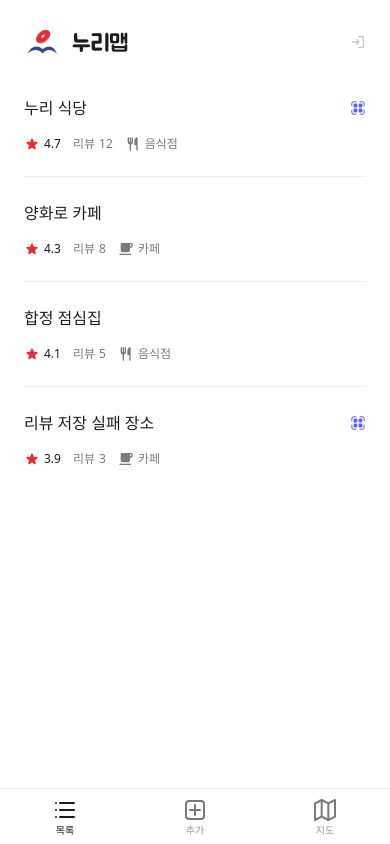
it: Nurimap browse › opens the refreshed mobile list-first root and full-screen detail flow
The image size is (390, 844).
Expected: the element with test id "mobile-list-page" shows "누리맵", [72,30,128,54]
Click the button with test id "place-list-item-place-restaurant-1" at (56,108), box [0,76,389,172]
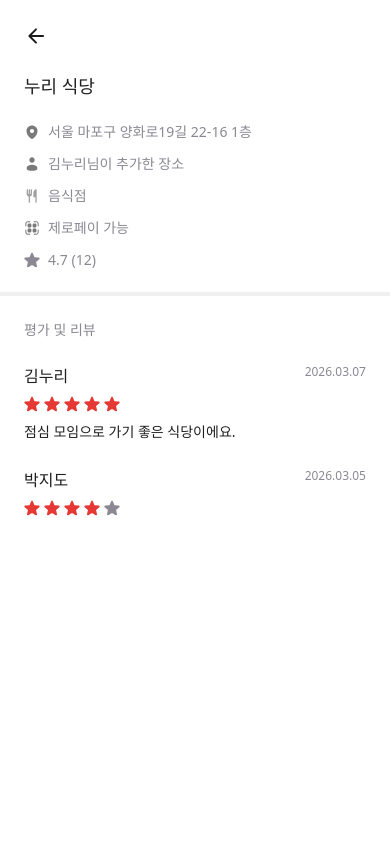
Now the element with test id "mobile-detail-page" is shown
Now the element with test id "mobile-detail-page" shows "누리 식당", box [24,74,95,98]
